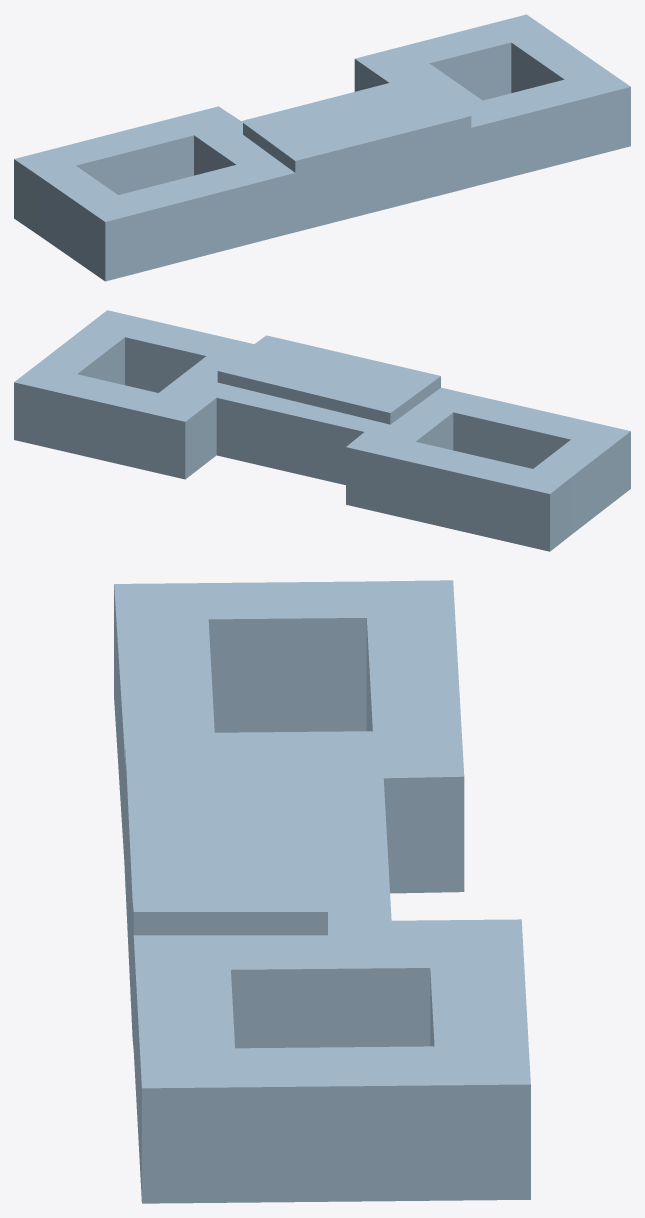
File: osm_way_155434036.glb
3 renders of one model, top to bottom at view 1: azimuth 30°, elevation 25°; view 2: azimuth 150°, elevation 25°; view 3: azimuth 270°, elevation 25°, orthographic. The views are drawn at different scales.
Parts seen in each view (by area): view 1: osm_way_155434036; view 2: osm_way_155434036; view 3: osm_way_155434036.
Boxes of the visible parts, <box> form: osm_way_155434036: <box>14,14,630,281</box>; osm_way_155434036: <box>14,310,630,551</box>; osm_way_155434036: <box>114,580,530,1203</box>.
Bounding box in the file's own units: 175 × 22.2 × 60.59.
